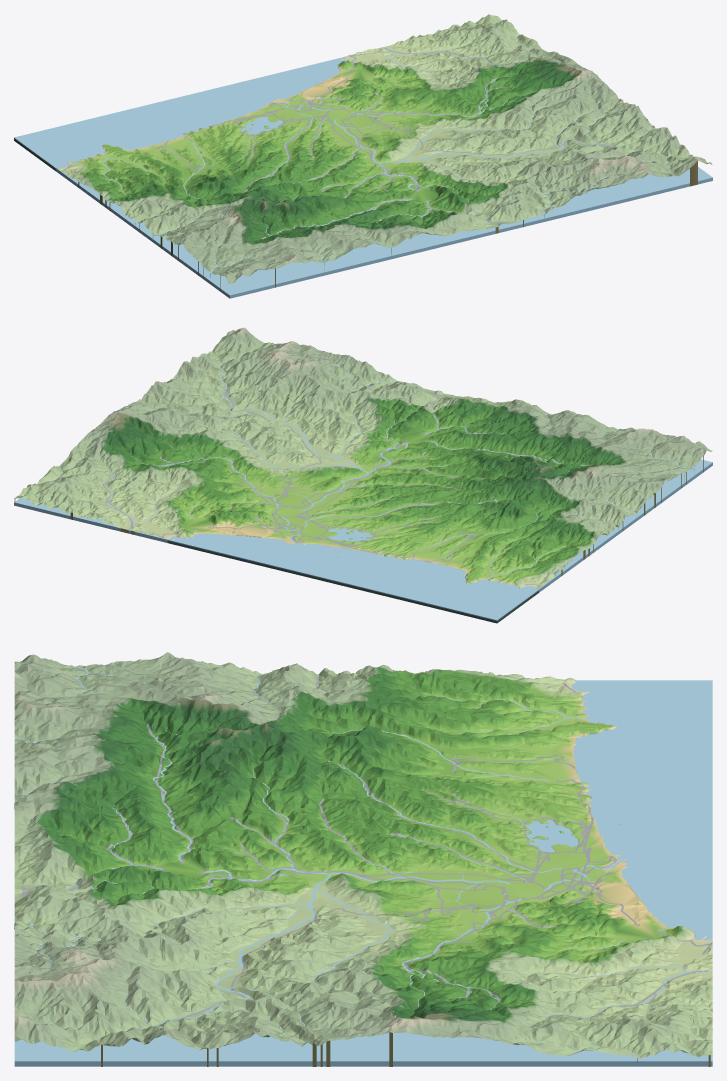
The model's file is city.glb.
3 renders of one model, top to bottom at view 1: azimuth 30°, elevation 25°; view 2: azimuth 150°, elevation 25°; view 3: azimuth 270°, elevation 25°, orthographic. The views are drawn at different scales.
Visible parts, largest first — view 1: terrain, water, roads, rivers; view 2: terrain, water, roads, rivers; view 3: terrain, water, roads, rivers.
Part boxes in pixels (<box>): terrain: <box>14,14,712,291</box>; water: <box>14,57,712,298</box>; roads: <box>63,48,616,239</box>; rivers: <box>101,34,670,277</box>; terrain: <box>14,327,712,623</box>; water: <box>14,459,712,620</box>; roads: <box>102,389,612,585</box>; rivers: <box>37,355,694,579</box>; terrain: <box>14,652,712,1066</box>; water: <box>14,680,712,1066</box>; roads: <box>21,677,711,1018</box>; rivers: <box>14,664,712,1062</box>.
Size of the model in its own units: 921 by 47.13 by 713.
